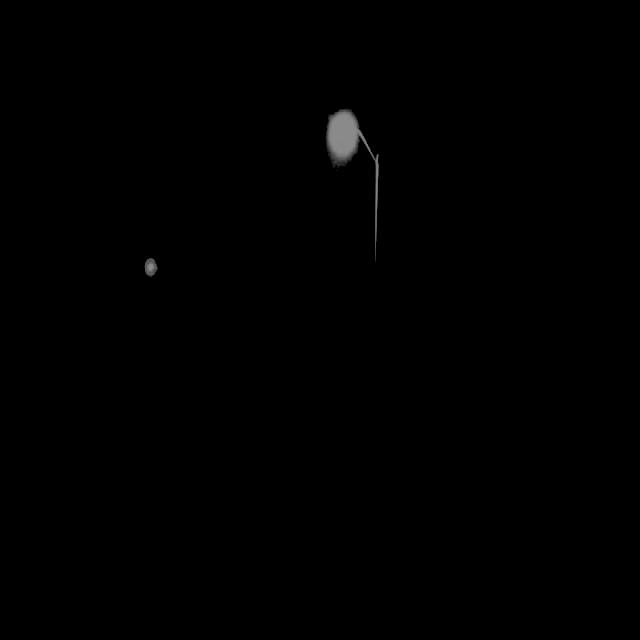Car: (352, 318, 455, 420)
